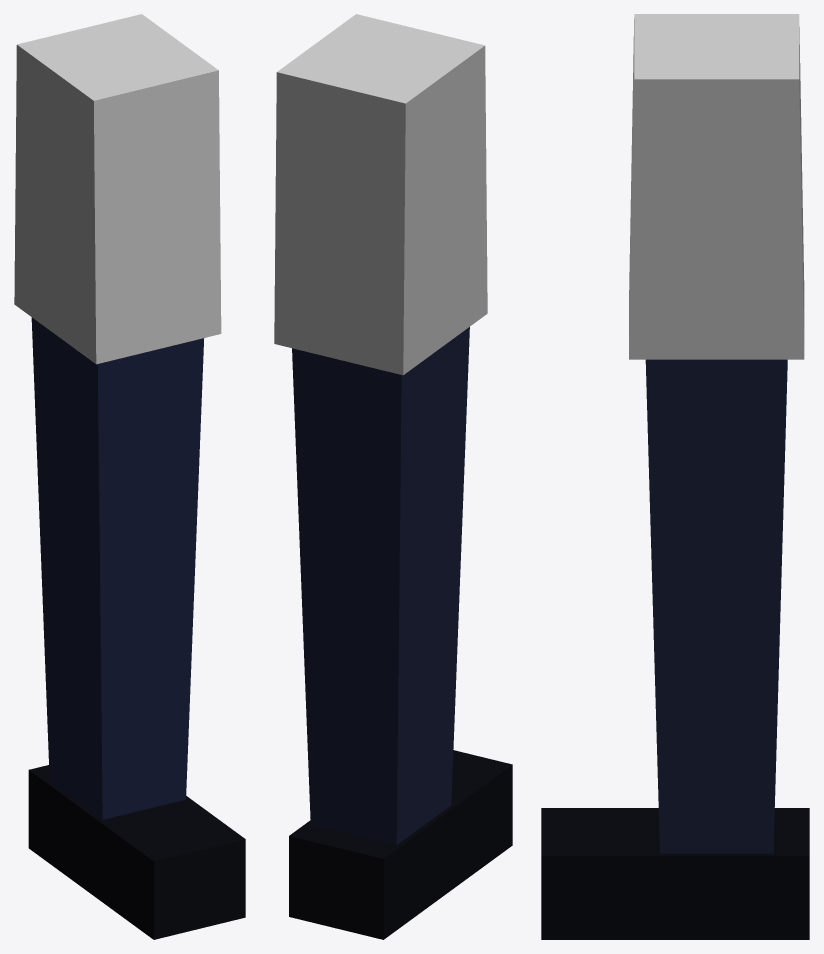
File: leg_k13.glb
The picture shows the model from 3 angles, left to right: view 1: azimuth 30°, elevation 25°; view 2: azimuth 150°, elevation 25°; view 3: azimuth 270°, elevation 25°; orthographic projection. The views are drawn at different scales.
Visible parts, largest first — view 1: leg_kit; view 2: leg_kit; view 3: leg_kit.
Part boxes in pixels (x1=…): leg_kit: x1=14, y1=14, x2=245, y2=939; leg_kit: x1=274, y1=14, x2=512, y2=939; leg_kit: x1=541, y1=14, x2=809, y2=939.
Size of the model in its own units: 0.15 by 0.93 by 0.26.
